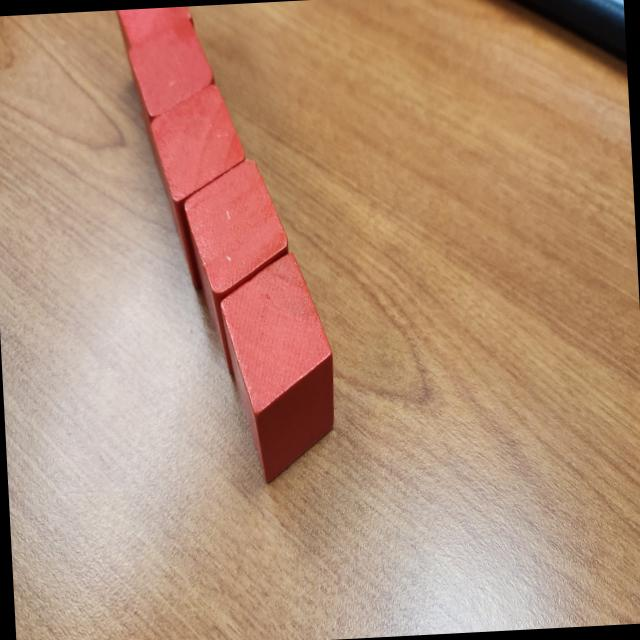red: (214, 250, 340, 491), (181, 156, 299, 379), (146, 82, 252, 294), (127, 16, 219, 150), (116, 8, 196, 66)
